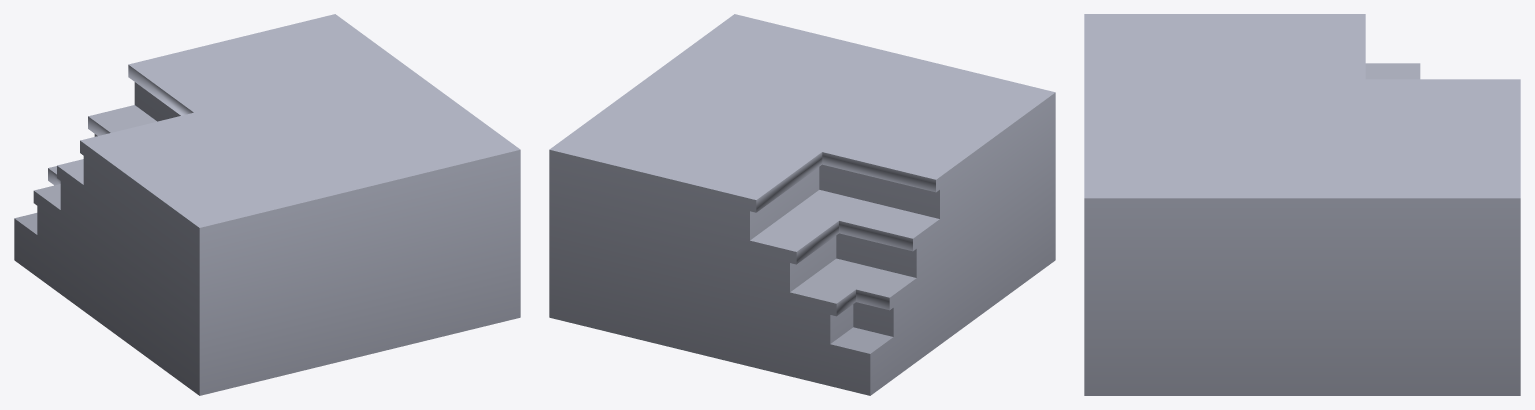
File: stairs-full-corner-inner.glb
3 views of the same model, side by side, from view 1: azimuth 30°, elevation 25°; view 2: azimuth 150°, elevation 25°; view 3: azimuth 270°, elevation 25° (orthographic). The views are drawn at different scales.
Parts seen in each view (by area): view 1: stairs-full-corner-inner; view 2: stairs-full-corner-inner; view 3: stairs-full-corner-inner.
Boxes of the visible parts, bbox=[...] form: stairs-full-corner-inner: bbox=[14, 14, 520, 395]; stairs-full-corner-inner: bbox=[549, 14, 1055, 395]; stairs-full-corner-inner: bbox=[1084, 14, 1520, 395].
Bounding box in the file's own units: 1 × 0.5 × 1.
